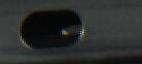holes: (17, 7, 84, 51)
